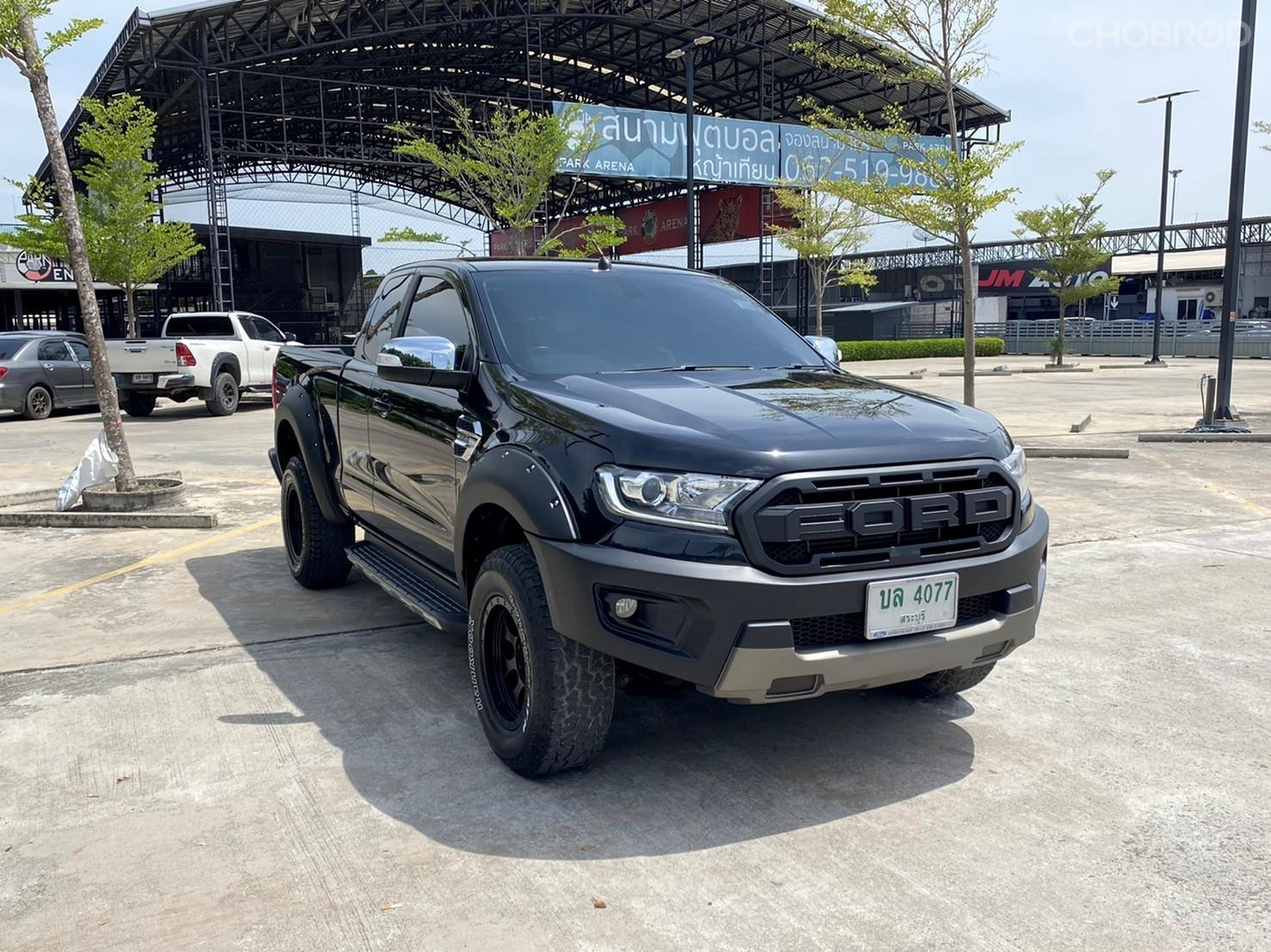license-plate: (864, 567, 969, 643)
